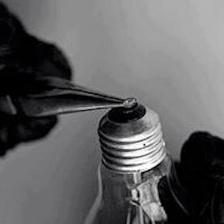light_bulb: (74, 95, 212, 224)
